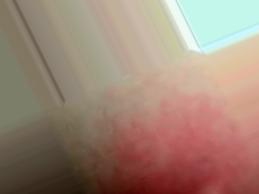Mosquito: (106, 96, 258, 194)
